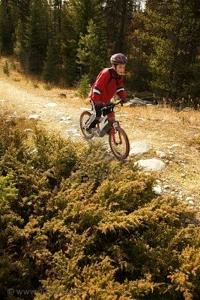person: (84, 54, 127, 136)
